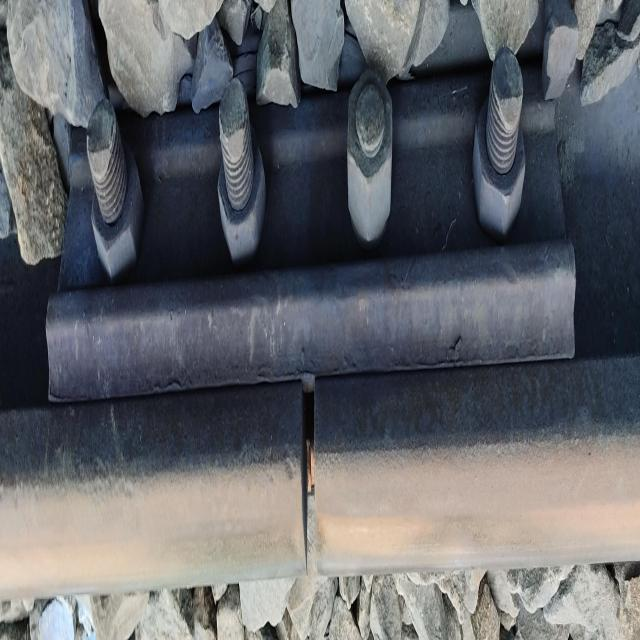Good Joint: (66, 58, 591, 373)
